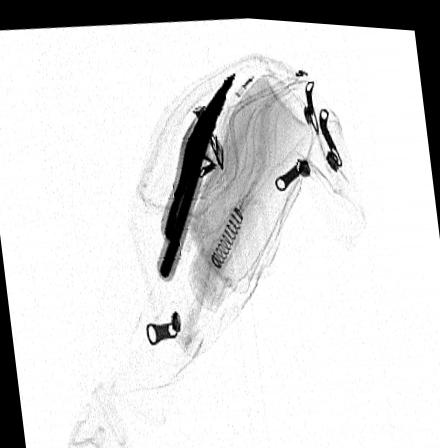Pliers: (160, 65, 237, 273)
